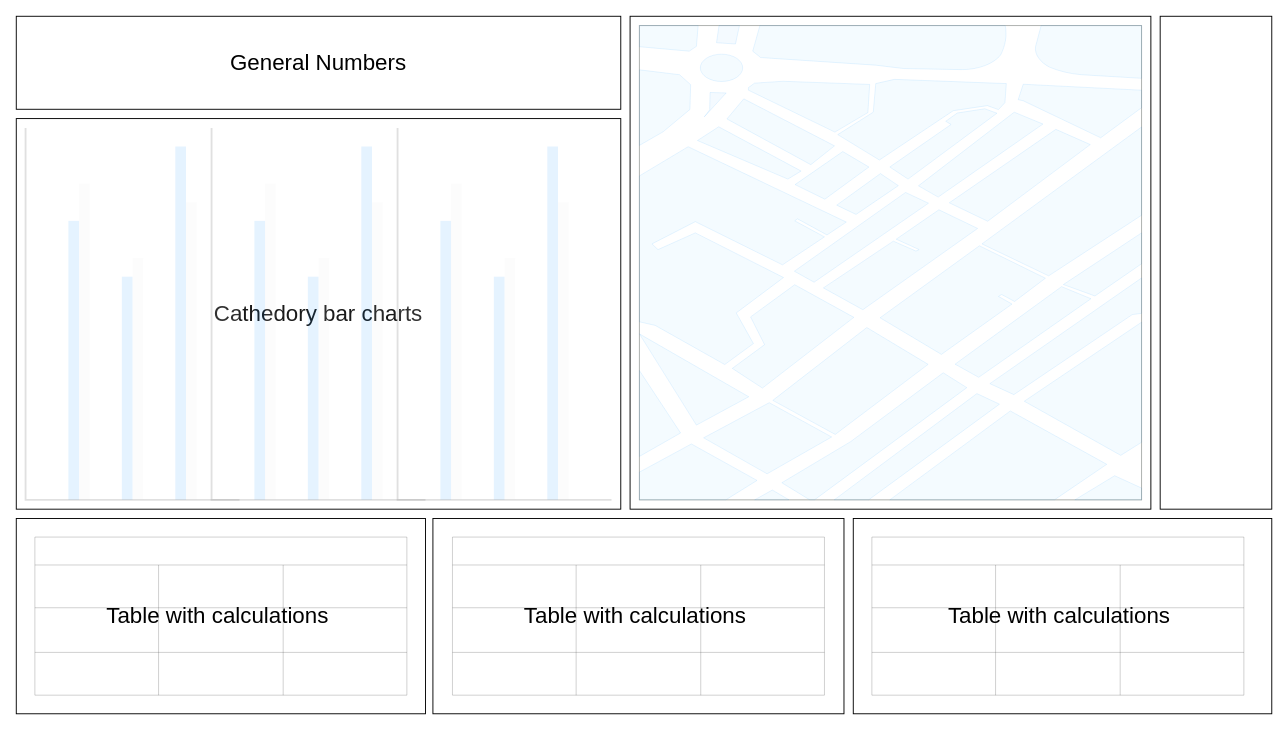
Image size: 1288x730. Some labels were removed from this diagram. Each missing label, with the box of its shape:
Filters: (1159, 15, 1272, 509)
MAP with neighborhoods: (629, 15, 1151, 509)
